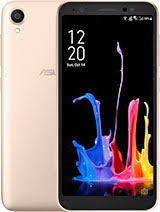asus: (1, 1, 159, 212), (54, 2, 159, 212)
